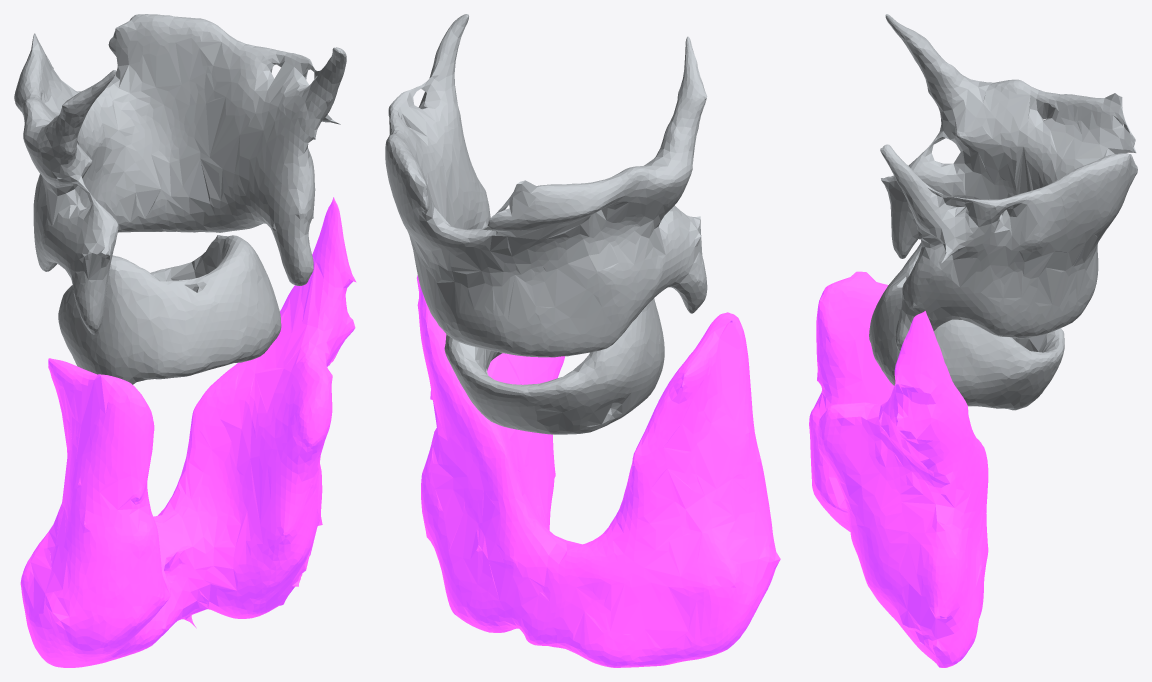
Rendered from schilddruese-spl-manix-mobil.glb.
3 renders of one model, left to right at view 1: azimuth 30°, elevation 25°; view 2: azimuth 150°, elevation 25°; view 3: azimuth 270°, elevation 25°, orthographic. The views are drawn at different scales.
Parts seen in each view (by area): view 1: 0:0:Glandula_thyroidea, 0:1:Cartilago_thyroidea, 0:2:Cartilago_cricoidea; view 2: 0:0:Glandula_thyroidea, 0:1:Cartilago_thyroidea, 0:2:Cartilago_cricoidea; view 3: 0:1:Cartilago_thyroidea, 0:0:Glandula_thyroidea, 0:2:Cartilago_cricoidea.
Boxes of the visible parts, x1,y1,x2,y2 form: 0:0:Glandula_thyroidea: (20, 197, 356, 667); 0:1:Cartilago_thyroidea: (14, 14, 346, 334); 0:2:Cartilago_cricoidea: (58, 235, 281, 384); 0:0:Glandula_thyroidea: (416, 275, 780, 667); 0:1:Cartilago_thyroidea: (385, 14, 707, 357); 0:2:Cartilago_cricoidea: (444, 298, 664, 434); 0:1:Cartilago_thyroidea: (880, 14, 1137, 352); 0:0:Glandula_thyroidea: (809, 271, 988, 667); 0:2:Cartilago_cricoidea: (869, 242, 1064, 410).
Bounding box in the file's own units: 0.043 × 0.0753 × 0.0392.
